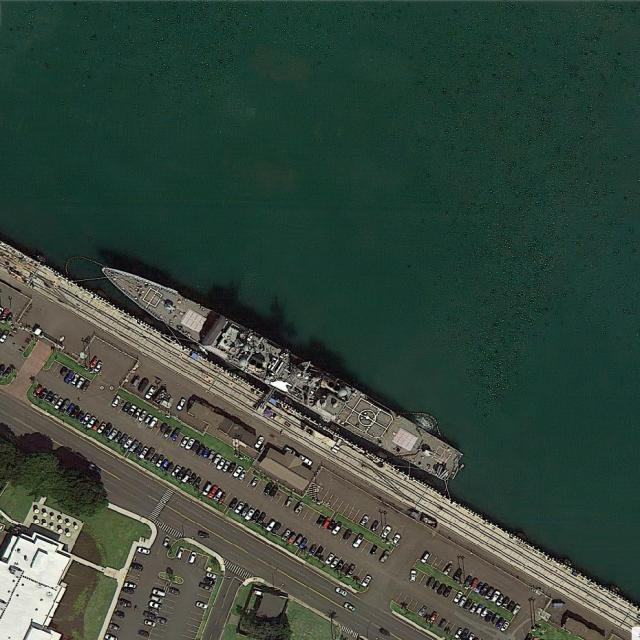Cruiser: (94, 257, 461, 481)
